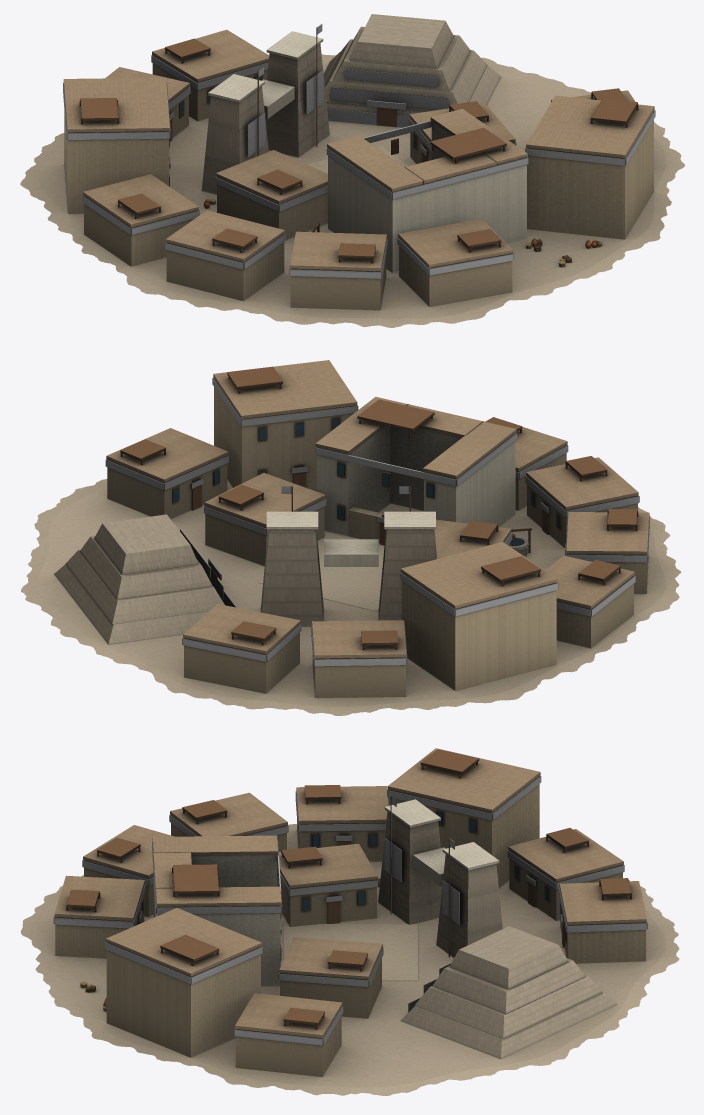
The model's file is bronze-town-medium-a-nile.glb.
3 views of the same model, one above another, from view 1: azimuth 30°, elevation 25°; view 2: azimuth 150°, elevation 25°; view 3: azimuth 270°, elevation 25° (orthographic).
Visible parts, largest first — view 1: LOD0; view 2: LOD0; view 3: LOD0.
Part boxes in pixels (x1,y1,x2,y2): LOD0: (20,14,684,327); LOD0: (21,360,681,715); LOD0: (20,748,679,1095).
Size of what is drawn, in the model's own units: 5.92 by 1.2 by 6.04.
Materials: 3 (3 with a texture image).
